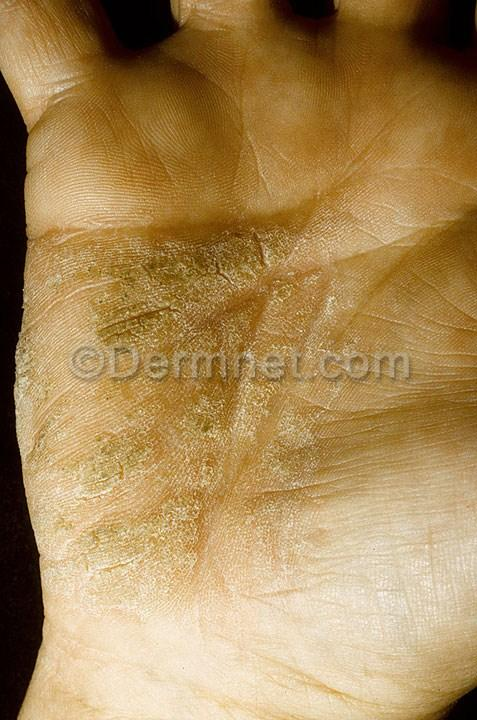Eczema: (40, 203, 392, 587)
